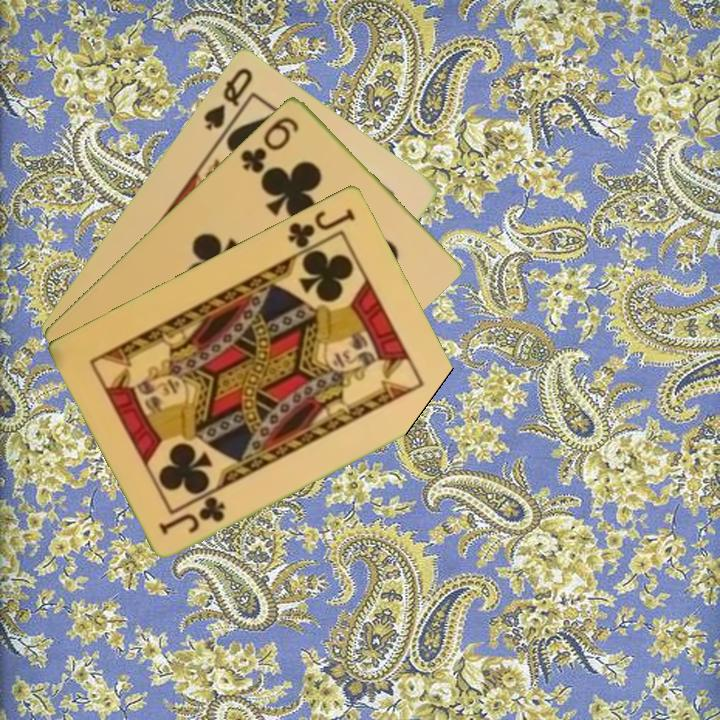6c: (237, 112, 302, 176)
Jc: (284, 204, 359, 251), (155, 492, 229, 537)
Qs: (199, 63, 256, 133)
